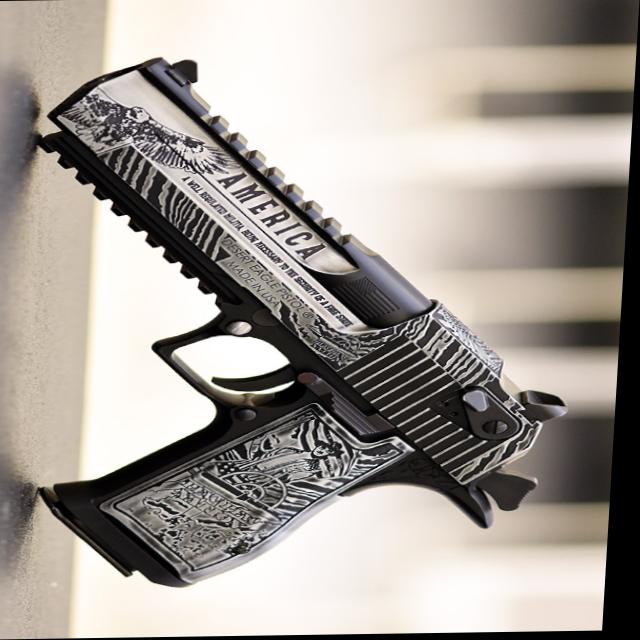handgun: (0, 52, 602, 593)
